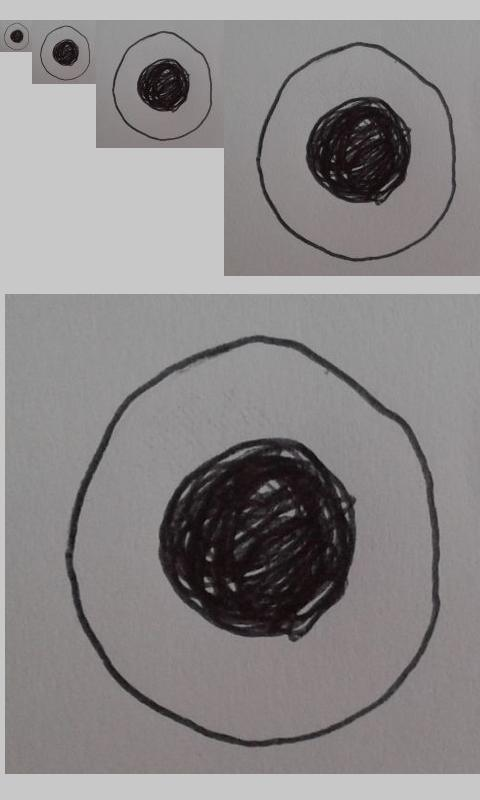radio_button: (61, 331, 444, 752), (255, 41, 458, 263), (111, 30, 213, 142), (39, 24, 92, 81), (3, 22, 30, 51)
